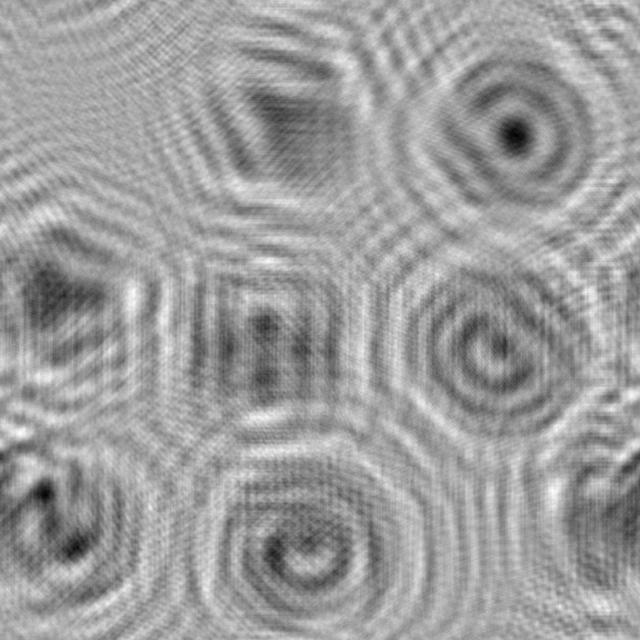A: (0, 178, 194, 405)
D: (373, 216, 640, 464)
G: (164, 411, 457, 640)
H: (161, 210, 391, 451)
P: (374, 0, 640, 260)
S: (0, 390, 186, 640)
T: (510, 363, 640, 619)
V: (153, 0, 396, 237)
